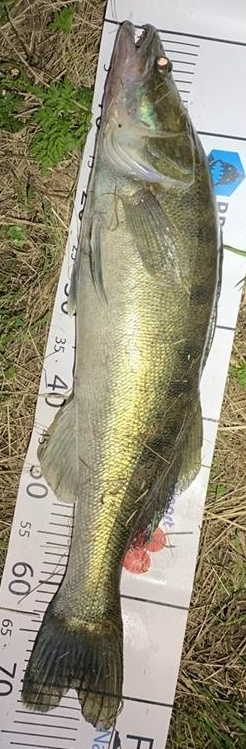Sander lucioperca: (20, 20, 226, 729)
